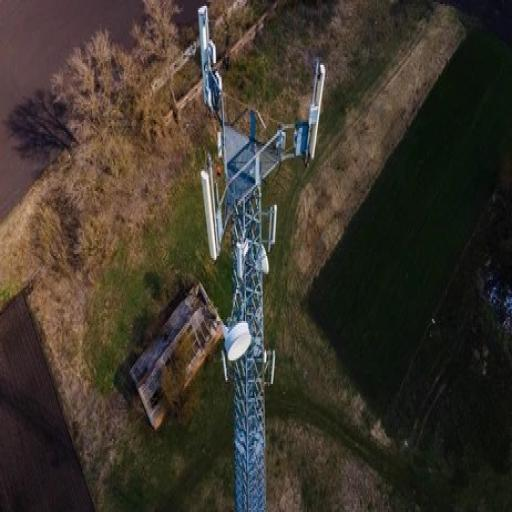supporting_tower: (198, 8, 327, 512)
